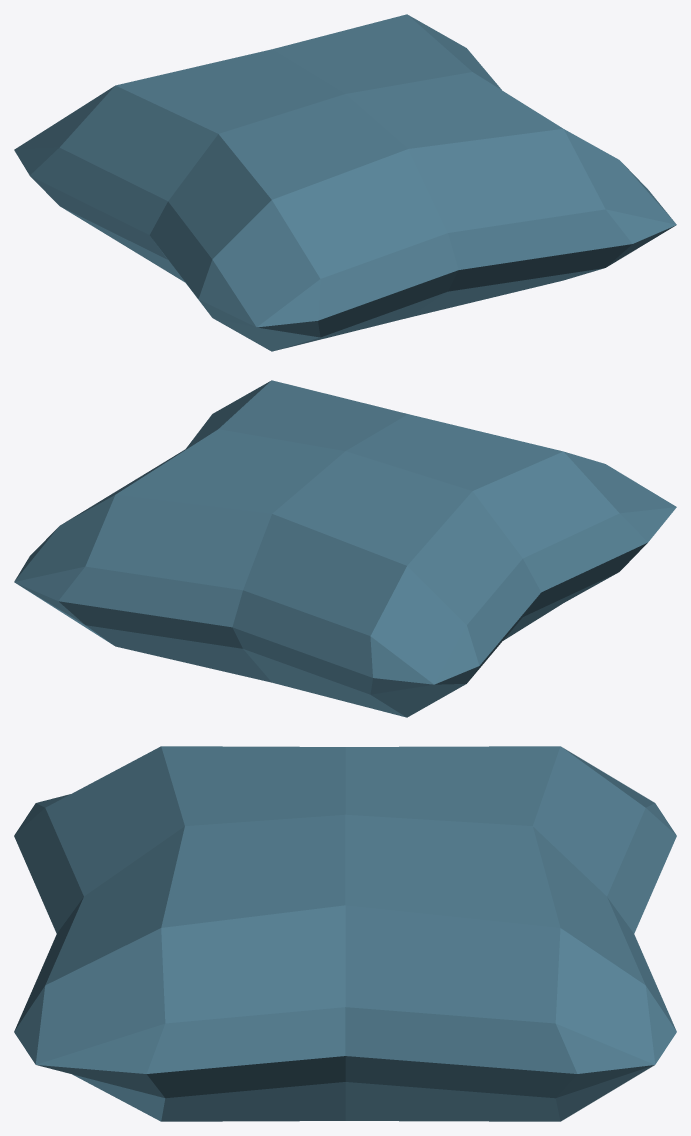
Rendered from SM_Prop_Cushion_03.obj.
3 renders of one model, top to bottom at view 1: azimuth 30°, elevation 25°; view 2: azimuth 150°, elevation 25°; view 3: azimuth 270°, elevation 25°, orthographic. The views are drawn at different scales.
Visible parts, largest first — view 1: SM_Prop_Cushion_03_0; view 2: SM_Prop_Cushion_03_0; view 3: SM_Prop_Cushion_03_0.
Part boxes in pixels (box(x1,y1,x2,y2)): SM_Prop_Cushion_03_0: box(14, 14, 676, 351); SM_Prop_Cushion_03_0: box(14, 380, 676, 717); SM_Prop_Cushion_03_0: box(14, 746, 676, 1121).
Bounding box in the file's own units: 0.5396 × 0.2142 × 0.5396.
1 material, 1 textured.
